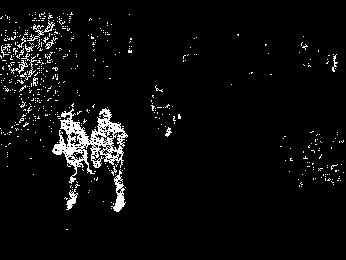person: (50, 109, 92, 213), (94, 108, 133, 217)
